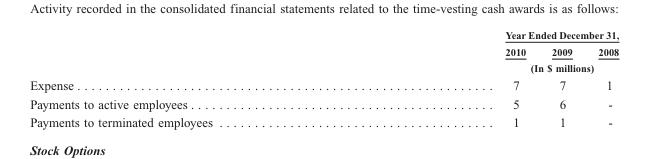table: (29, 28, 618, 128)
table column: (29, 28, 358, 128), (358, 28, 538, 128), (538, 28, 584, 128), (584, 28, 618, 128)
table column header: (29, 28, 618, 75)
table row: (29, 75, 618, 94), (29, 94, 618, 112), (29, 42, 618, 59), (29, 59, 618, 75), (29, 112, 618, 128), (29, 28, 618, 42)
table spanning cell: (358, 59, 618, 75), (358, 28, 618, 42)
